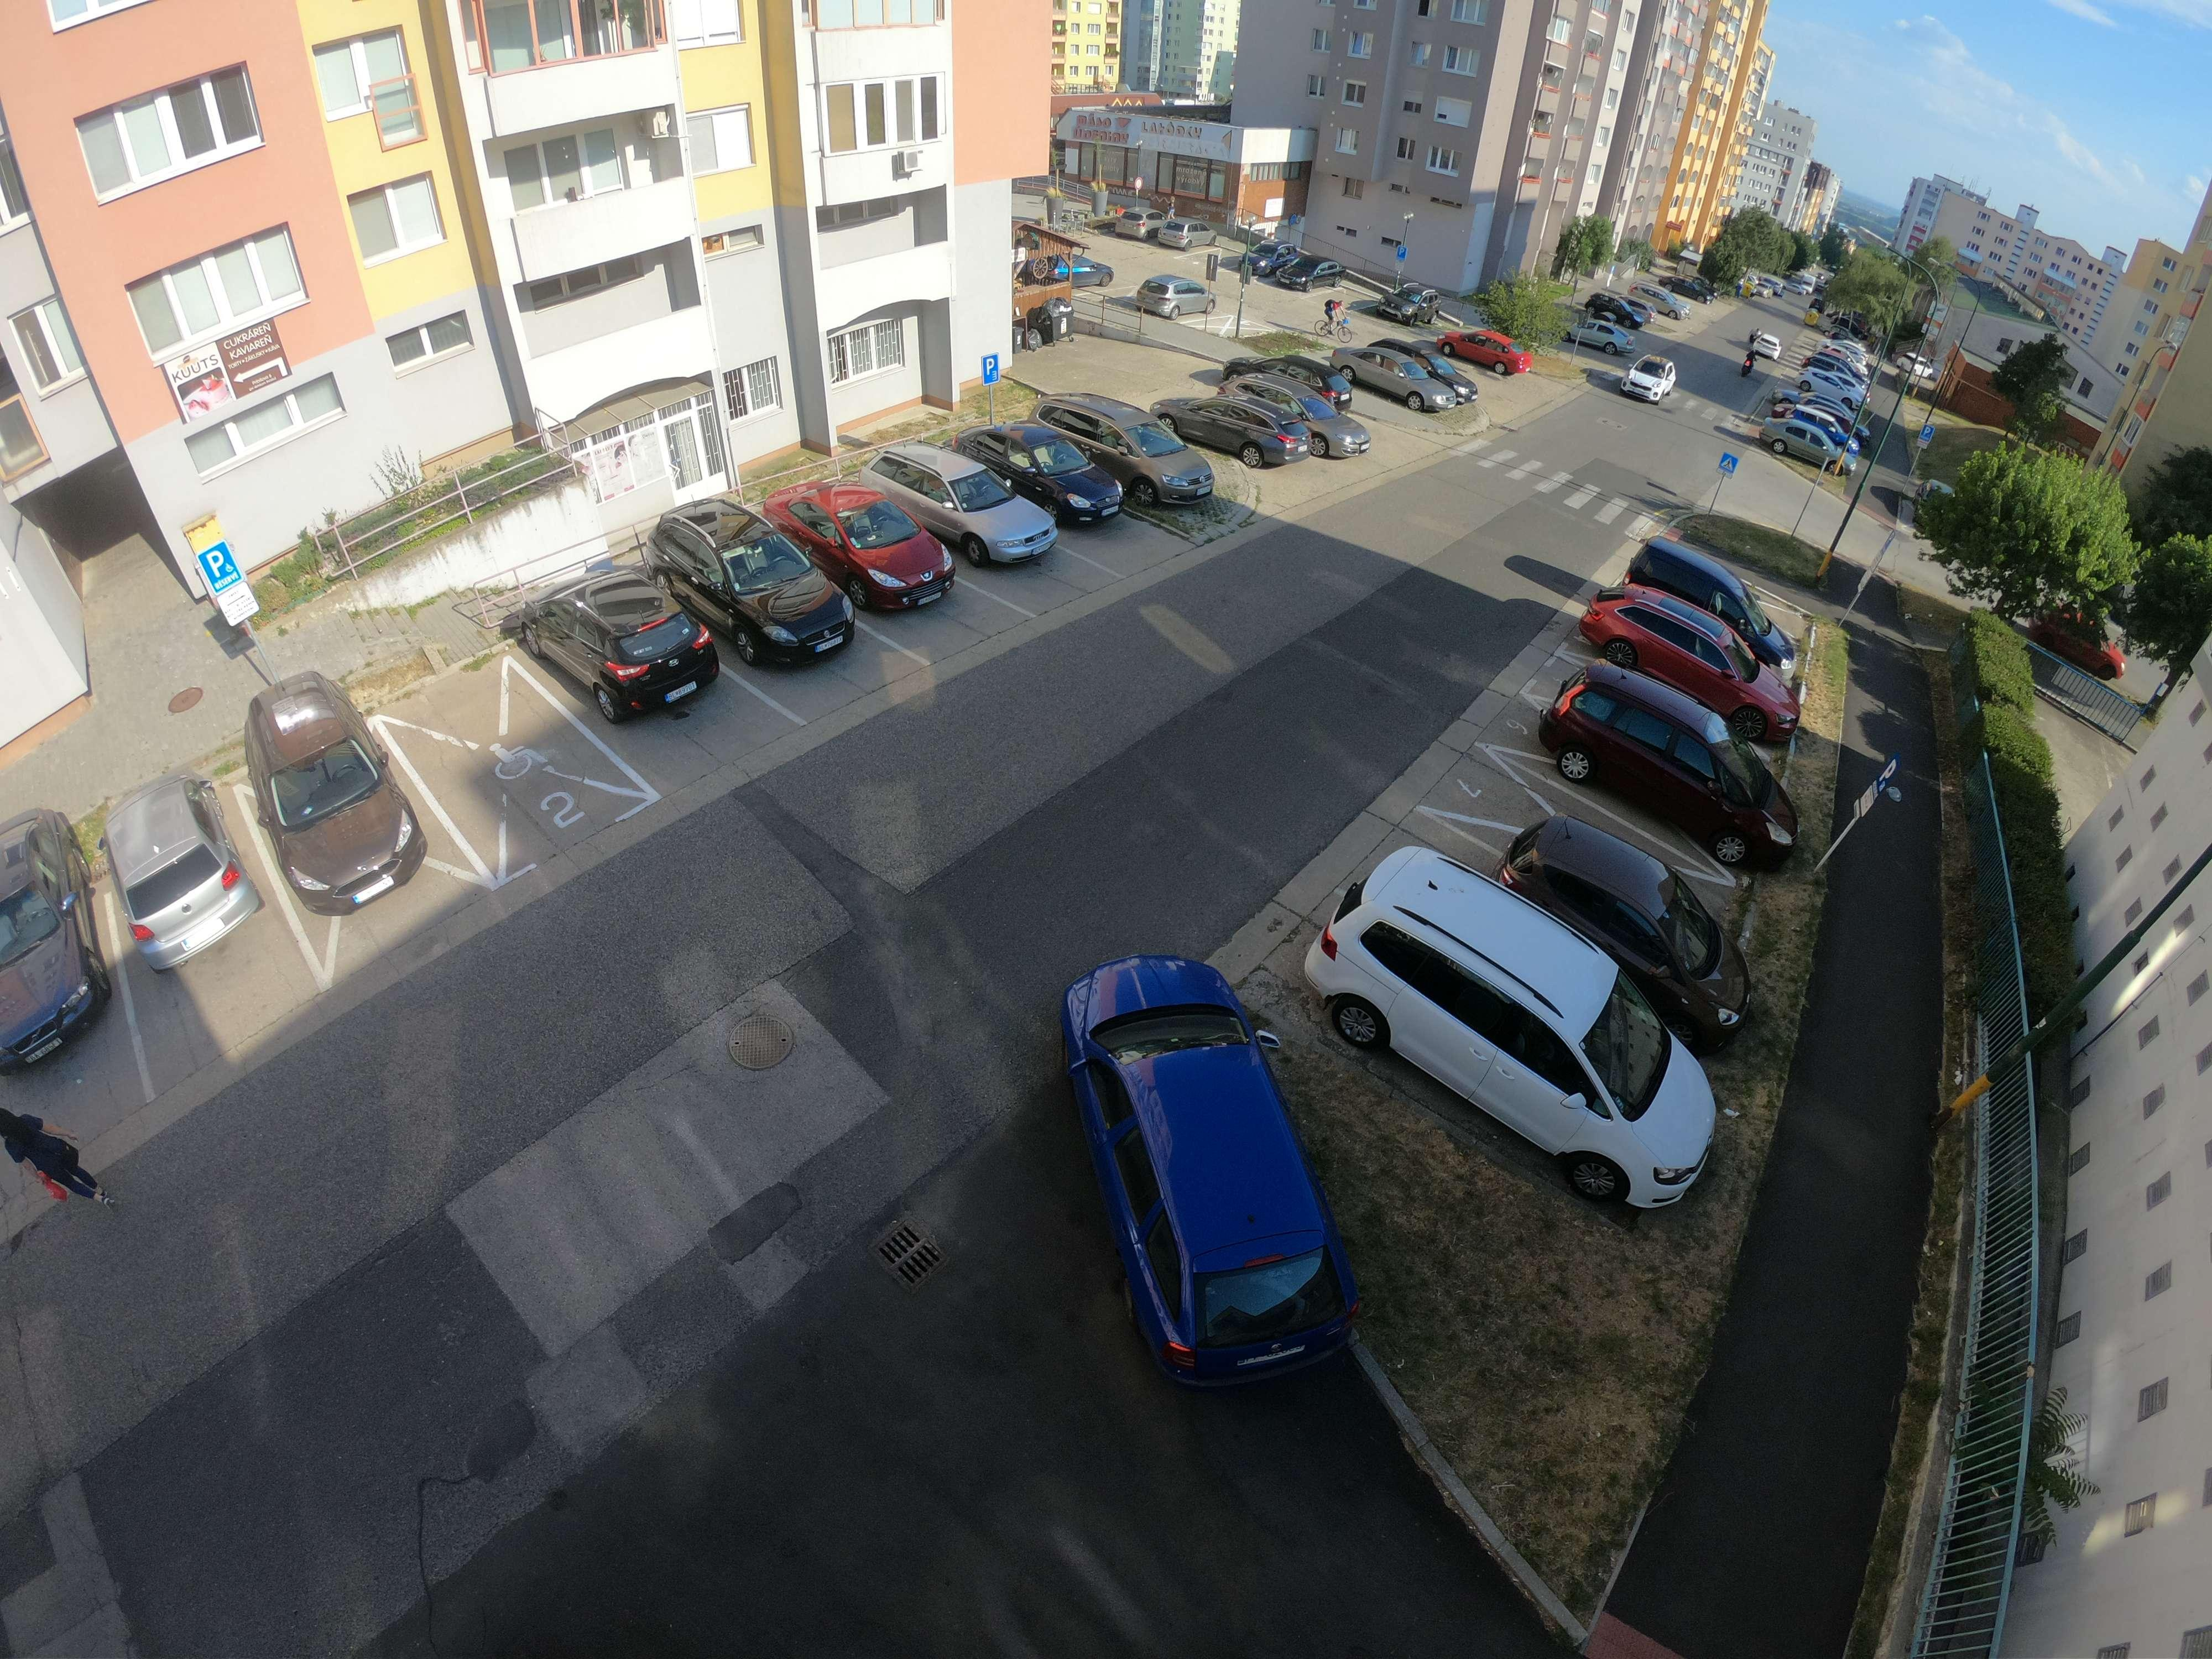empty: (1049, 957, 1385, 1380), (1305, 845, 1698, 1185), (1491, 800, 1742, 1000), (1540, 678, 1778, 843), (1571, 624, 1794, 800), (240, 702, 427, 899), (665, 507, 859, 662), (0, 835, 118, 1077), (1580, 584, 1789, 716), (535, 575, 719, 721), (99, 784, 254, 946), (878, 443, 1047, 566), (784, 484, 949, 610), (1052, 397, 1205, 502), (963, 423, 1115, 528), (1245, 364, 1369, 455), (1167, 389, 1292, 471), (1348, 336, 1461, 411)
